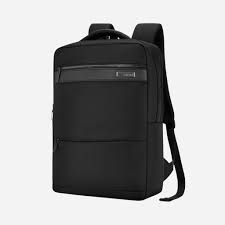backpack: (51, 22, 185, 201)
